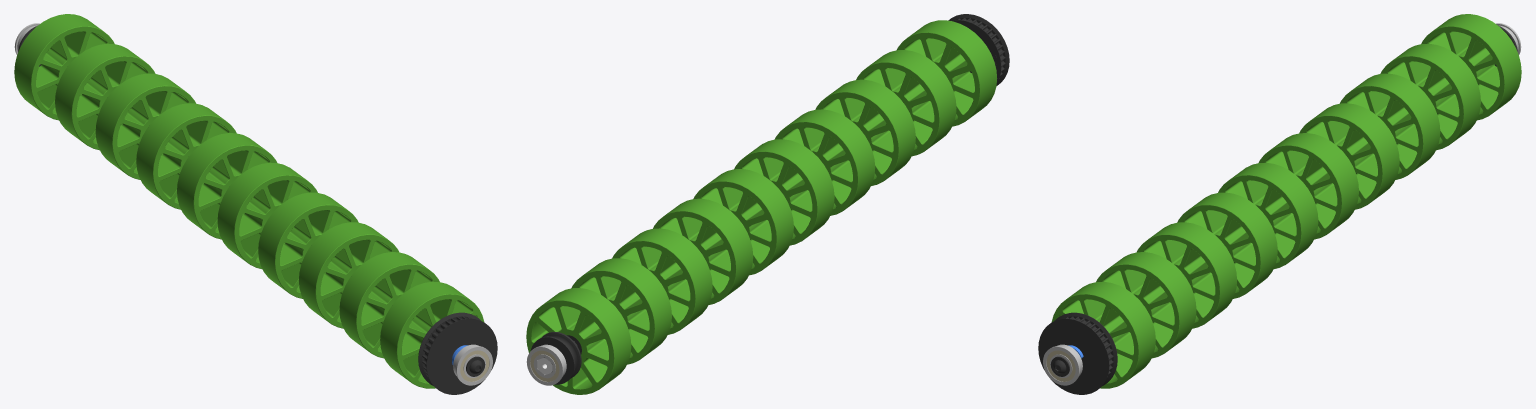
3 renders of one model, left to right at view 1: azimuth 30°, elevation 25°; view 2: azimuth 150°, elevation 25°; view 3: azimuth 330°, elevation 25°, orthographic.
Visible parts, largest first — view 1: 3" Compliant Wheel (35A, 1" Wide, 1/2" Hex Bore) (×10), 36t Custom HTD 5mm Pulley (0.375" Wide, *0.375" Hex Bore), 1/2" Hex Bore Bearing (1.125" OD, 0.313" WD, Shielded, Flang; view 2: 3" Compliant Wheel (35A, 1" Wide, 1/2" Hex Bore) (×10), 36t Custom HTD 5mm Pulley (0.375" Wide, *0.375" Hex Bore), 1/2" Hex Bore Bearing (1.125" OD, 0.313" WD, Shielded, Flang, 1.625" Pulley Slice (1/4" Groove, Single) (×2); view 3: 3" Compliant Wheel (35A, 1" Wide, 1/2" Hex Bore) (×10), 36t Custom HTD 5mm Pulley (0.375" Wide, *0.375" Hex Bore), 1/2" Hex Bore Bearing (1.125" OD, 0.313" WD, Shielded, Flang.
Boxes of the visible parts, x1=… form: 3" Compliant Wheel (35A, 1" Wide, 1/2" Hex Bore) (×10): x1=14, y1=14, x2=484, y2=388; 36t Custom HTD 5mm Pulley (0.375" Wide, *0.375" Hex Bore): x1=418, y1=312, x2=497, y2=394; 1/2" Hex Bore Bearing (1.125" OD, 0.313" WD, Shielded, Flang: x1=453, y1=344, x2=492, y2=385; 3" Compliant Wheel (35A, 1" Wide, 1/2" Hex Bore) (×10): x1=526, y1=20, x2=997, y2=394; 36t Custom HTD 5mm Pulley (0.375" Wide, *0.375" Hex Bore): x1=948, y1=14, x2=1009, y2=85; 1/2" Hex Bore Bearing (1.125" OD, 0.313" WD, Shielded, Flang: x1=526, y1=344, x2=566, y2=385; 1.625" Pulley Slice (1/4" Groove, Single) (×2): x1=530, y1=332, x2=581, y2=384; 3" Compliant Wheel (35A, 1" Wide, 1/2" Hex Bore) (×10): x1=1051, y1=14, x2=1521, y2=388; 36t Custom HTD 5mm Pulley (0.375" Wide, *0.375" Hex Bore): x1=1038, y1=312, x2=1117, y2=394; 1/2" Hex Bore Bearing (1.125" OD, 0.313" WD, Shielded, Flang: x1=1043, y1=344, x2=1082, y2=385.
Bounding box in the file's own units: 0.0762 × 0.0762 × 0.665.
